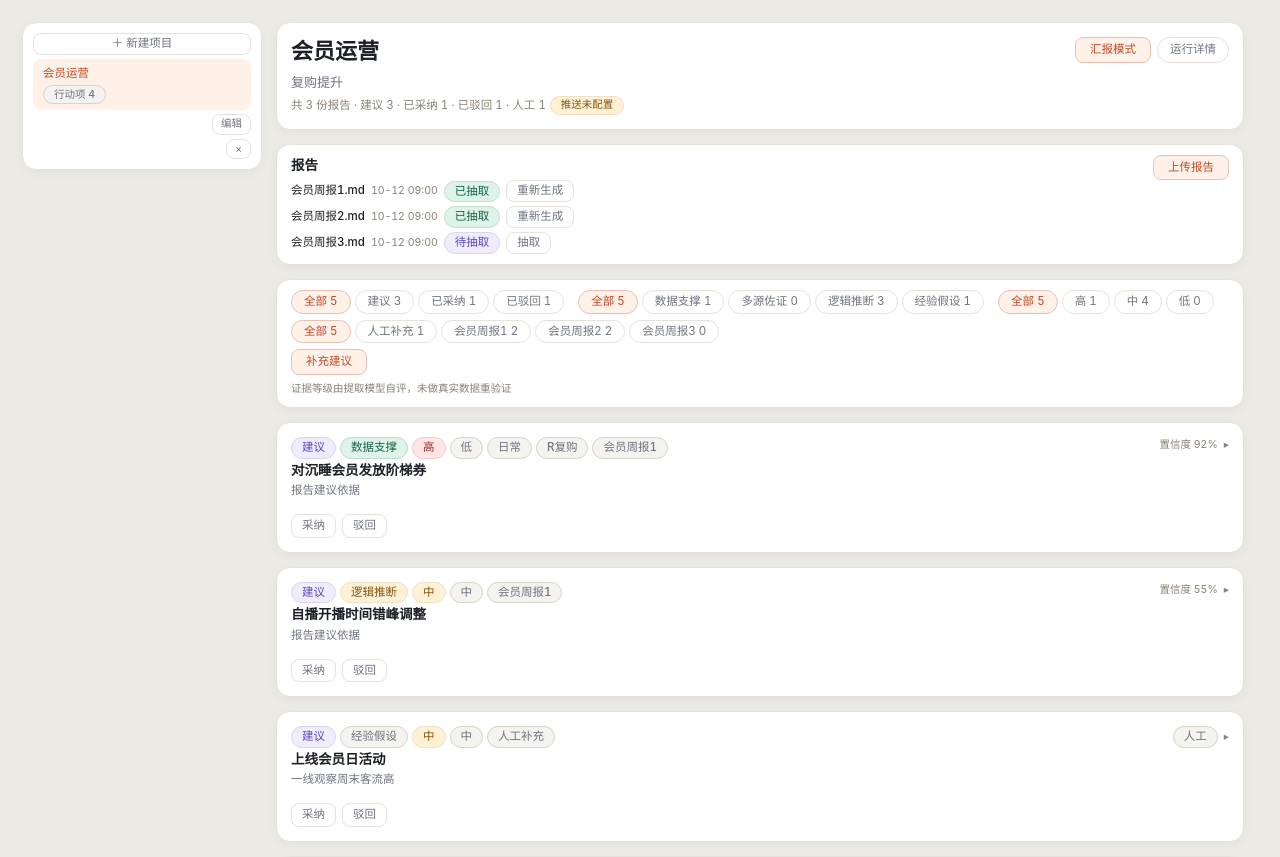
it: S-L 新建项目：inline 表单必填校验（请填写名称）→ 创建成功切换为新项目
Click the button "＋ 新建项目" at (142, 44), box [33, 33, 251, 55]
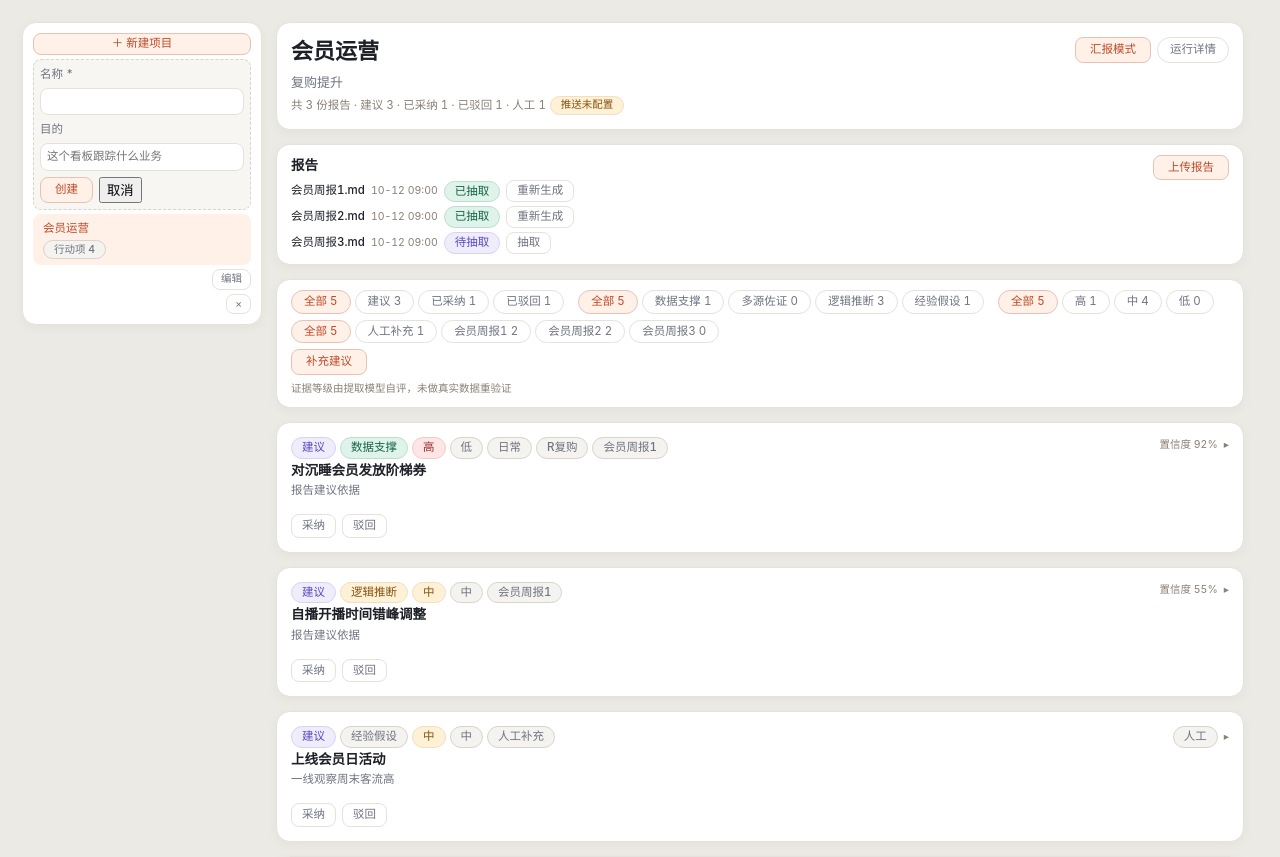
Click the button "创建" at (66, 190), box [40, 177, 93, 203]
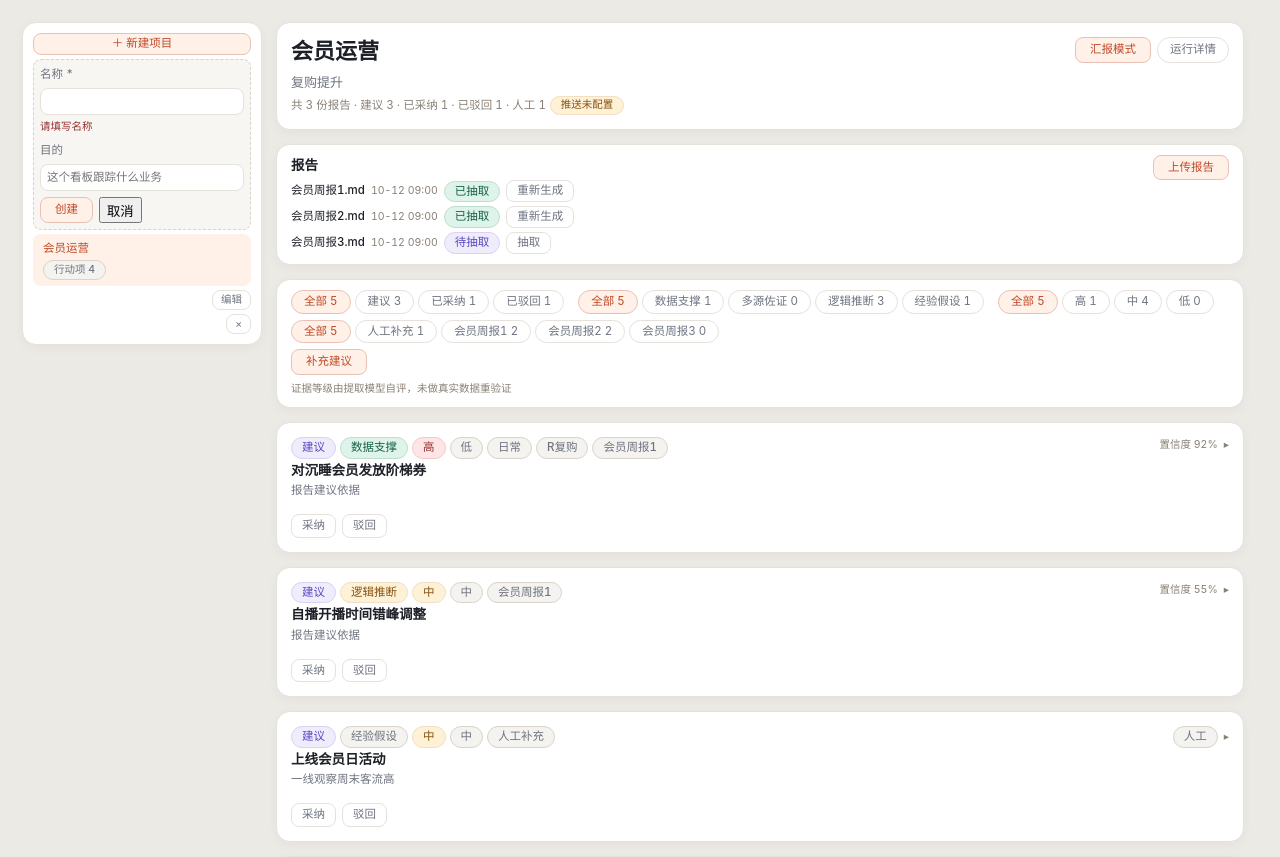
Now the text "请填写名称" is shown, box [40, 120, 92, 133]
Type "新项目" into the field named "名称" at (142, 102), box [40, 88, 244, 115]
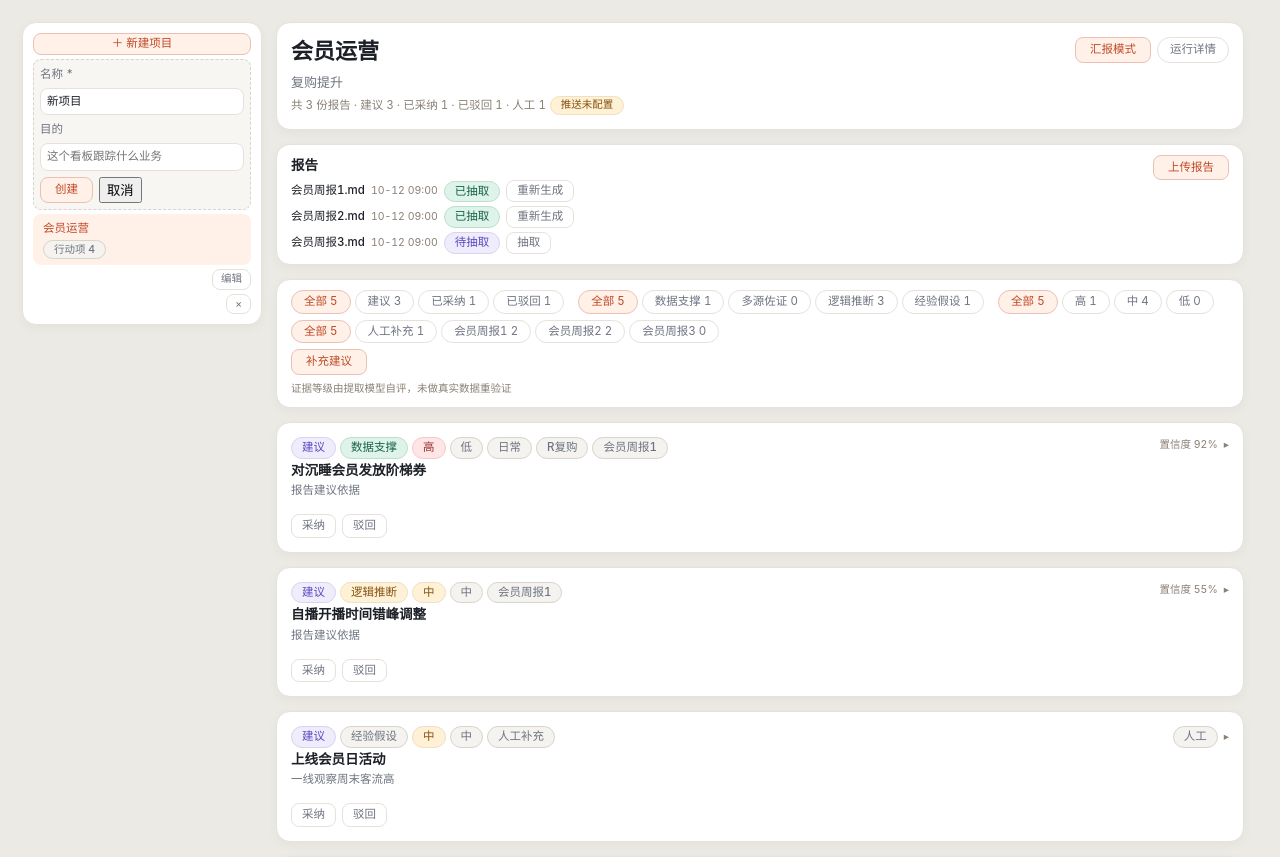
Type "跟踪试点" into the field named "目的" at (142, 157), box [40, 143, 244, 171]
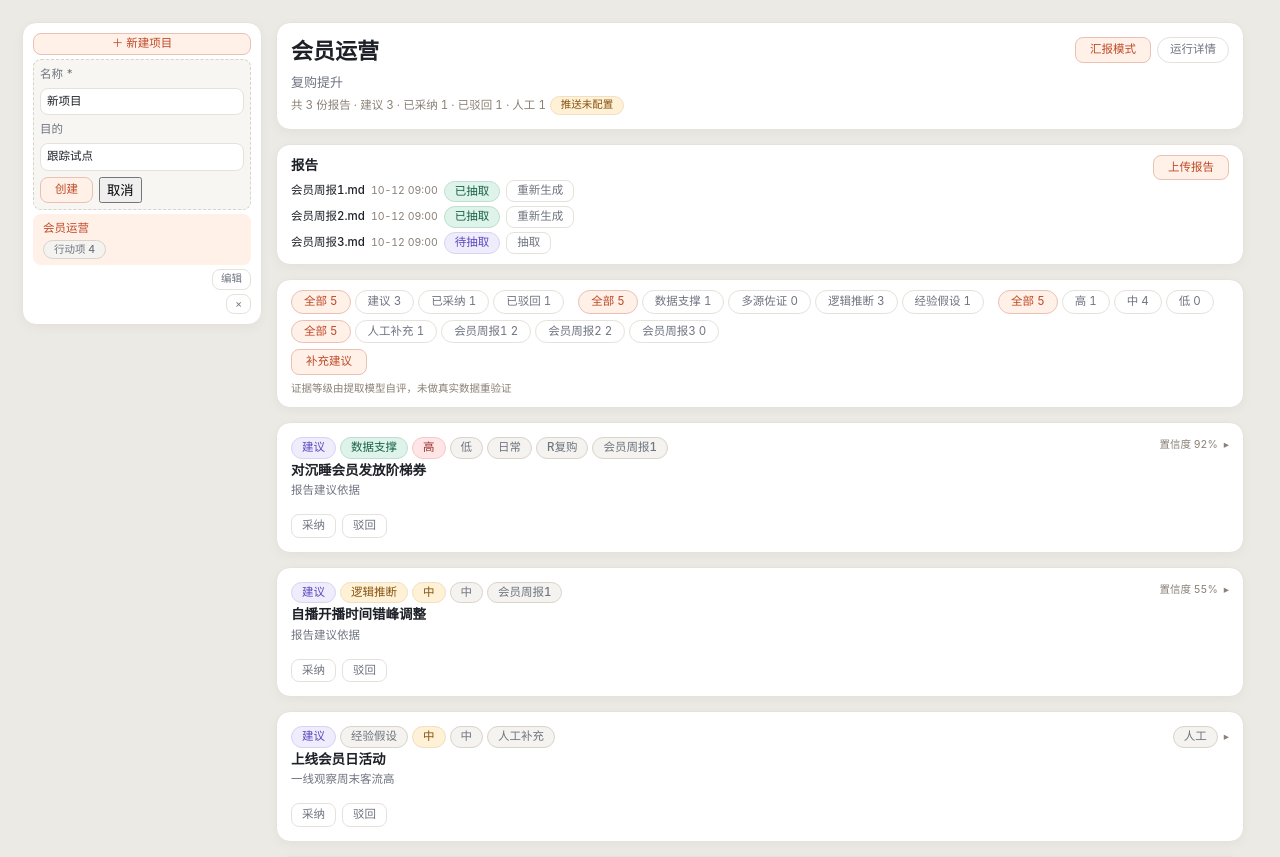
Click the button "创建" at (66, 190), box [40, 177, 93, 203]
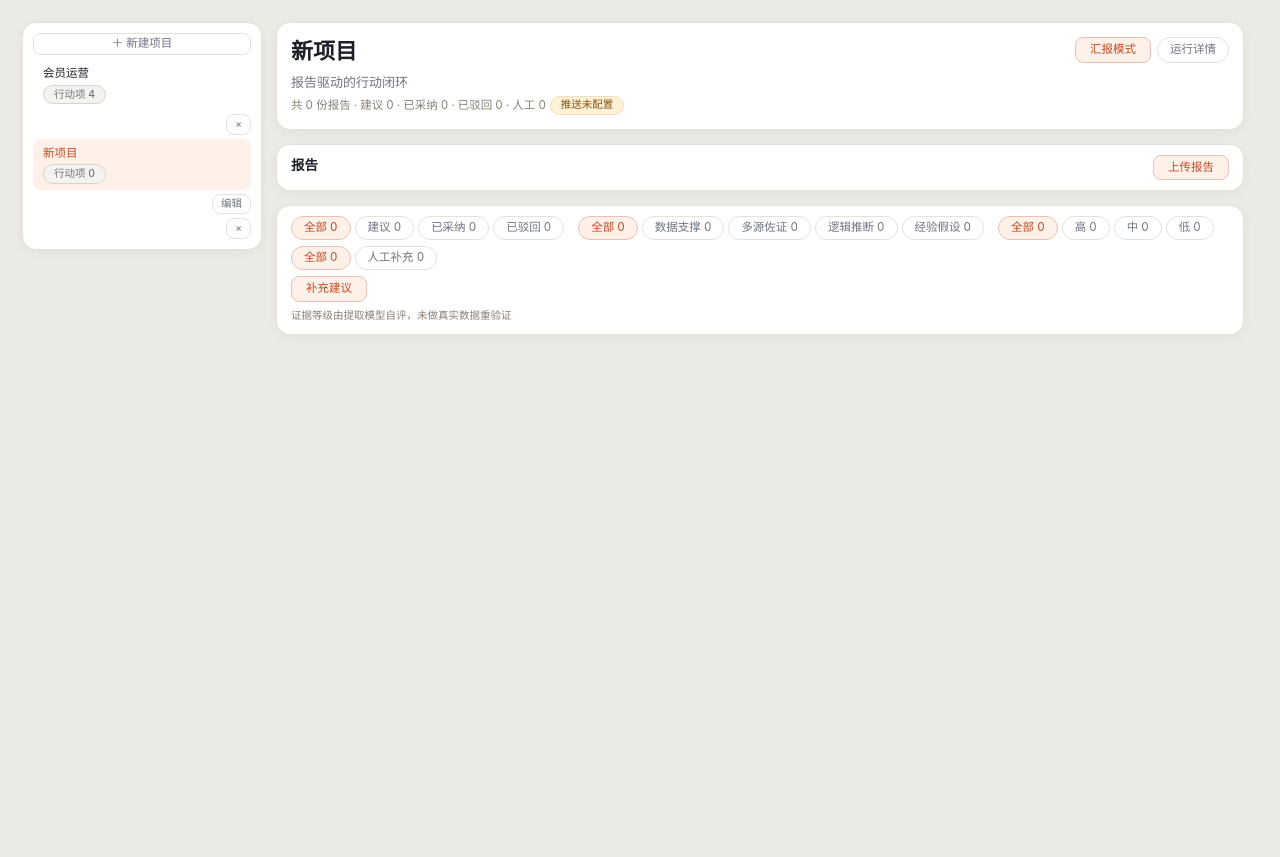
Now the heading "新项目" is shown, box [291, 38, 357, 64]
